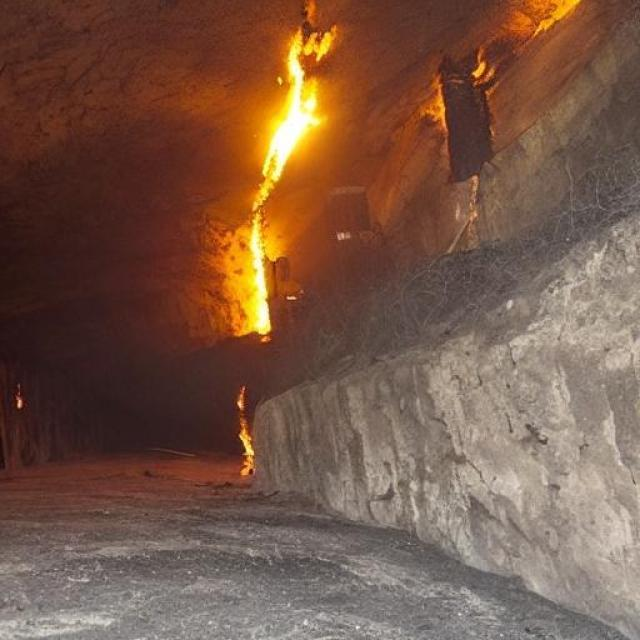Fire: (202, 9, 342, 348), (218, 388, 272, 493)
